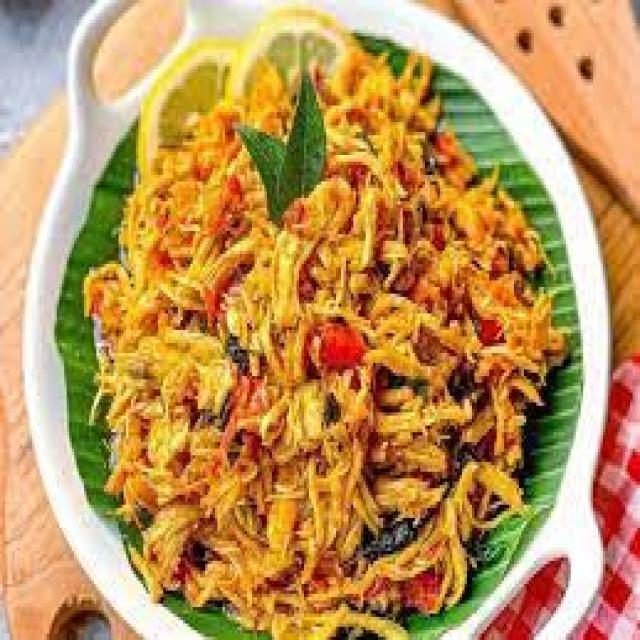ayam_suwir: (104, 56, 551, 640)
